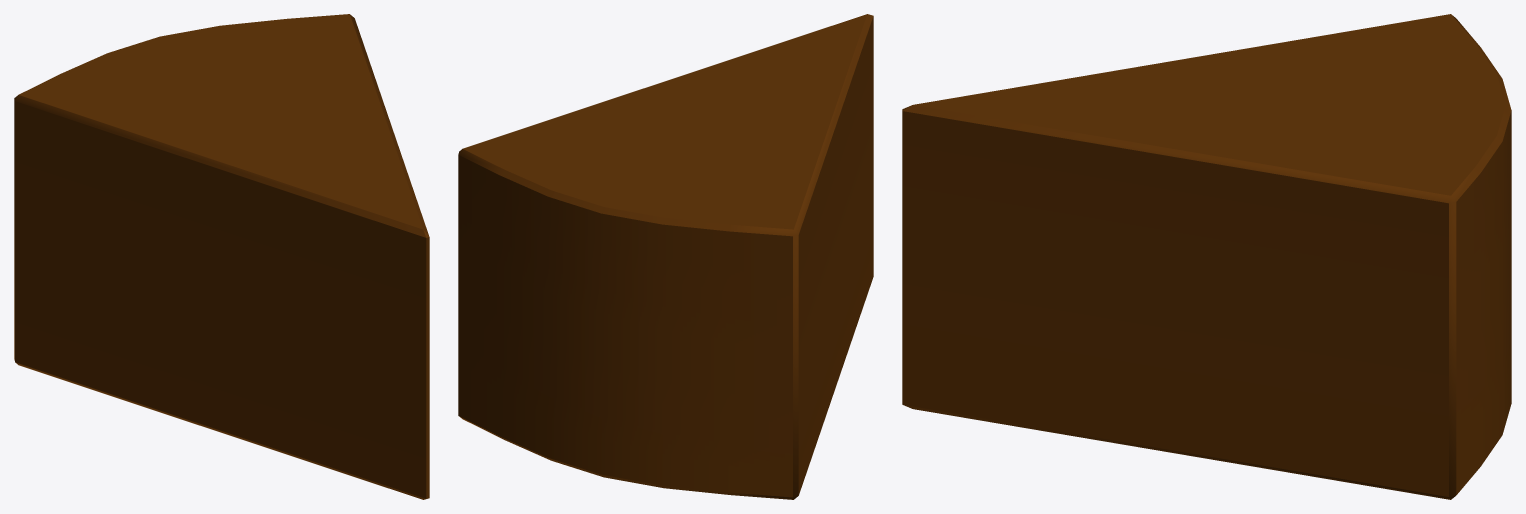
Rendered from Cake_1 Half_2.fbx.
The picture shows the model from 3 angles, left to right: view 1: azimuth 30°, elevation 25°; view 2: azimuth 150°, elevation 25°; view 3: azimuth 270°, elevation 25°; orthographic projection. The views are drawn at different scales.
Visible parts, largest first — view 1: Cake_1 Half_2; view 2: Cake_1 Half_2; view 3: Cake_1 Half_2.
Part boxes in pixels (x1=…): Cake_1 Half_2: x1=14, y1=14, x2=429, y2=499; Cake_1 Half_2: x1=458, y1=14, x2=873, y2=499; Cake_1 Half_2: x1=902, y1=14, x2=1511, y2=499.
Bounding box in the file's own units: 0.0948 × 0.0721 × 0.1309.
